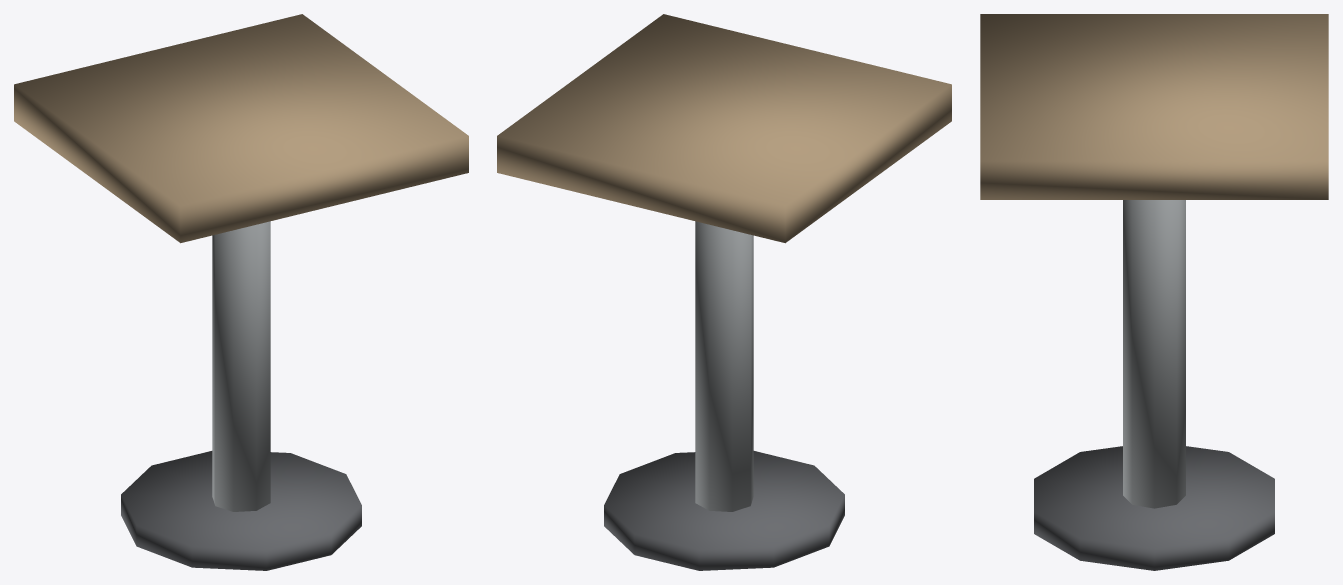
File: cafe_pedestal_table__tall.glb
3 views of the same model, side by side, from view 1: azimuth 30°, elevation 25°; view 2: azimuth 150°, elevation 25°; view 3: azimuth 270°, elevation 25° (orthographic). The views are drawn at different scales.
Parts seen in each view (by area): view 1: world; view 2: world; view 3: world.
Part boxes in pixels (box(x1,y1,x2,y2)): world: box(14, 14, 468, 570); world: box(497, 14, 951, 570); world: box(980, 14, 1328, 570).
Bounding box in the file's own units: 0.66 × 0.899 × 0.66.
